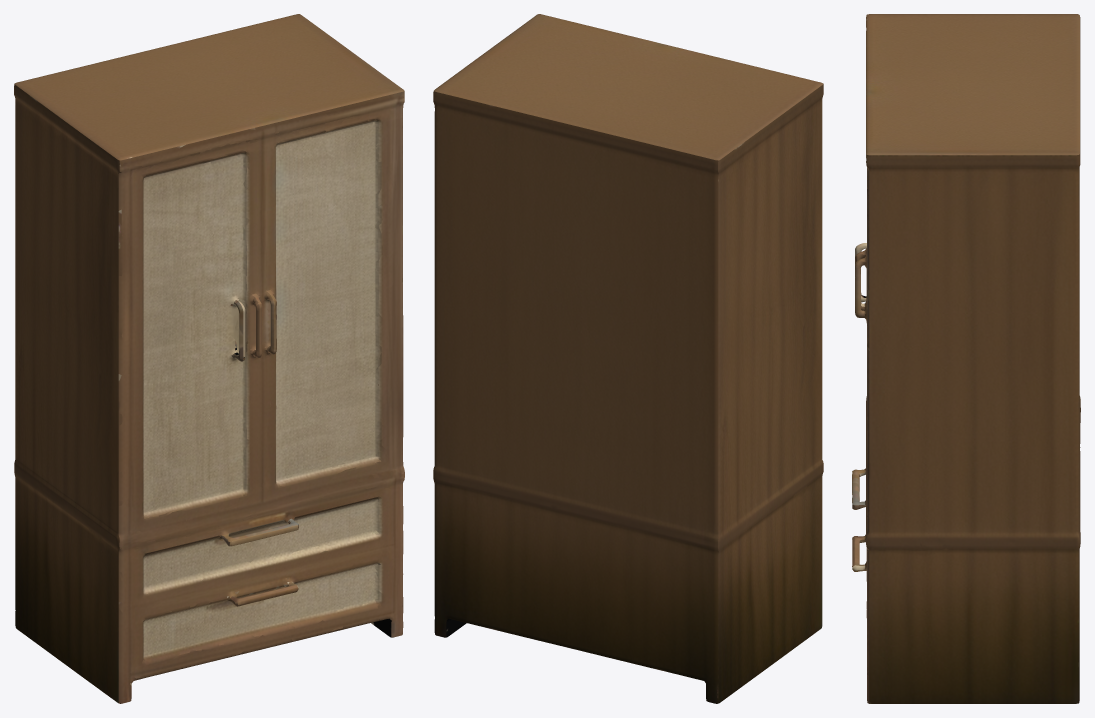
File: wardrobe__wardrobe#2.glb
The picture shows the model from 3 angles, left to right: view 1: azimuth 30°, elevation 25°; view 2: azimuth 150°, elevation 25°; view 3: azimuth 270°, elevation 25°; orthographic projection.
Parts seen in each view (by area): view 1: tmpx7yj06lq.ply; view 2: tmpx7yj06lq.ply; view 3: tmpx7yj06lq.ply.
Boxes of the visible parts, left/top/right/bottom form: tmpx7yj06lq.ply: left=14, top=14, right=404, bottom=703; tmpx7yj06lq.ply: left=433, top=14, right=823, bottom=703; tmpx7yj06lq.ply: left=852, top=14, right=1080, bottom=703.
Size of the model in its own units: 1.09 by 1.99 by 0.7479.
Materials: 1 (1 with a texture image).
